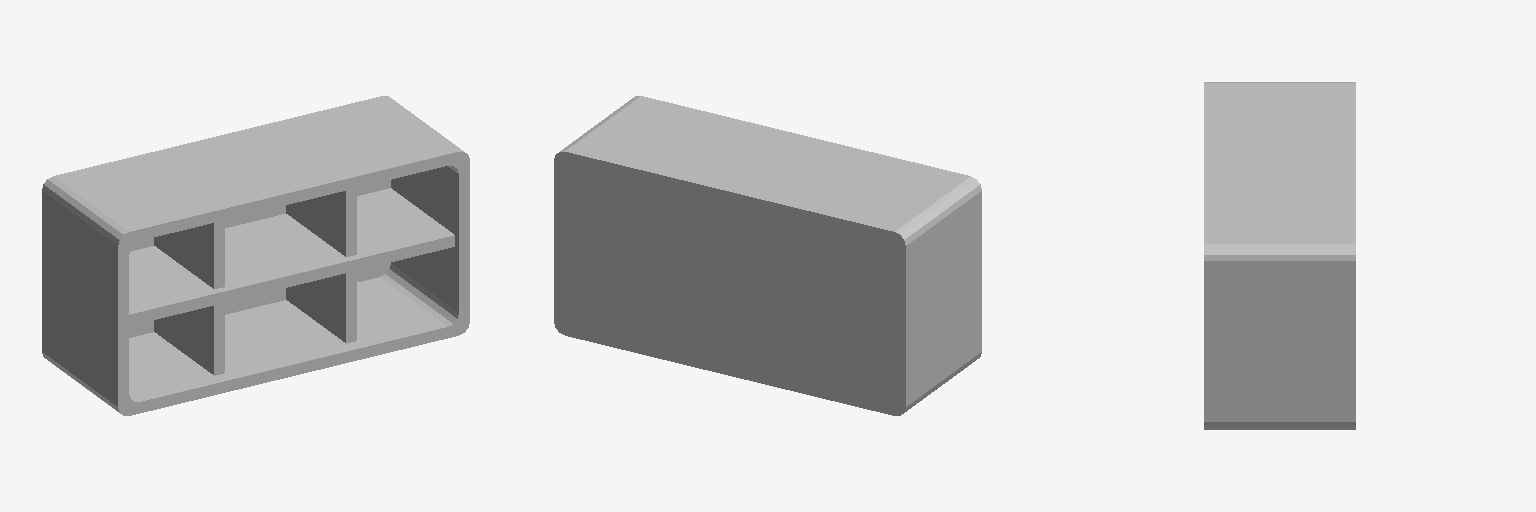
Rendered from prop_estantería02.obj.
The picture shows the model from 3 angles: view 1: azimuth 30°, elevation 25°; view 2: azimuth 150°, elevation 25°; view 3: azimuth 270°, elevation 25°; orthographic projection.
Parts seen in each view (by area): view 1: pCube6; view 2: pCube6; view 3: pCube6.
Part boxes in pixels (x1,y1,x2,y2): pCube6: (42, 96, 469, 415); pCube6: (554, 96, 981, 415); pCube6: (1204, 82, 1355, 429).
Size of the model in its own units: 2.8 by 1.4 by 1.05.